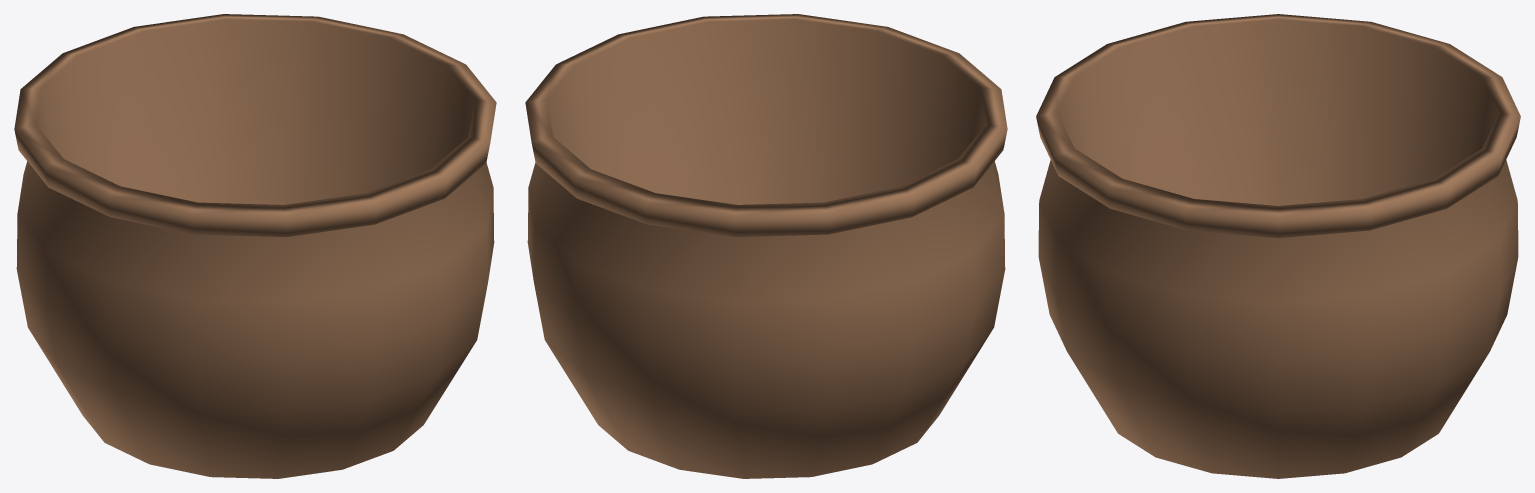
The model's file is Cauldron.fbx.
The picture shows the model from 3 angles, left to right: view 1: azimuth 30°, elevation 25°; view 2: azimuth 150°, elevation 25°; view 3: azimuth 270°, elevation 25°; orthographic projection.
Parts seen in each view (by area): view 1: Cauldron; view 2: Cauldron; view 3: Cauldron.
Part boxes in pixels (x1,y1,x2,y2): Cauldron: (14, 14, 496, 478); Cauldron: (525, 14, 1007, 478); Cauldron: (1036, 14, 1520, 478).
Size of the model in its own units: 81.99 by 54.62 by 81.99.
